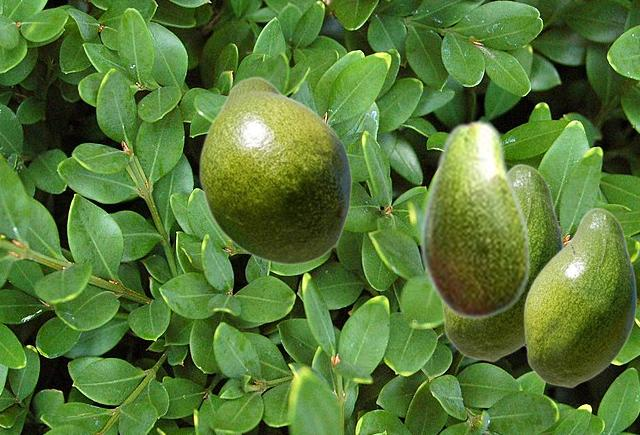avocado: (198, 76, 351, 265), (440, 163, 563, 361), (420, 118, 530, 320), (523, 207, 636, 387)
